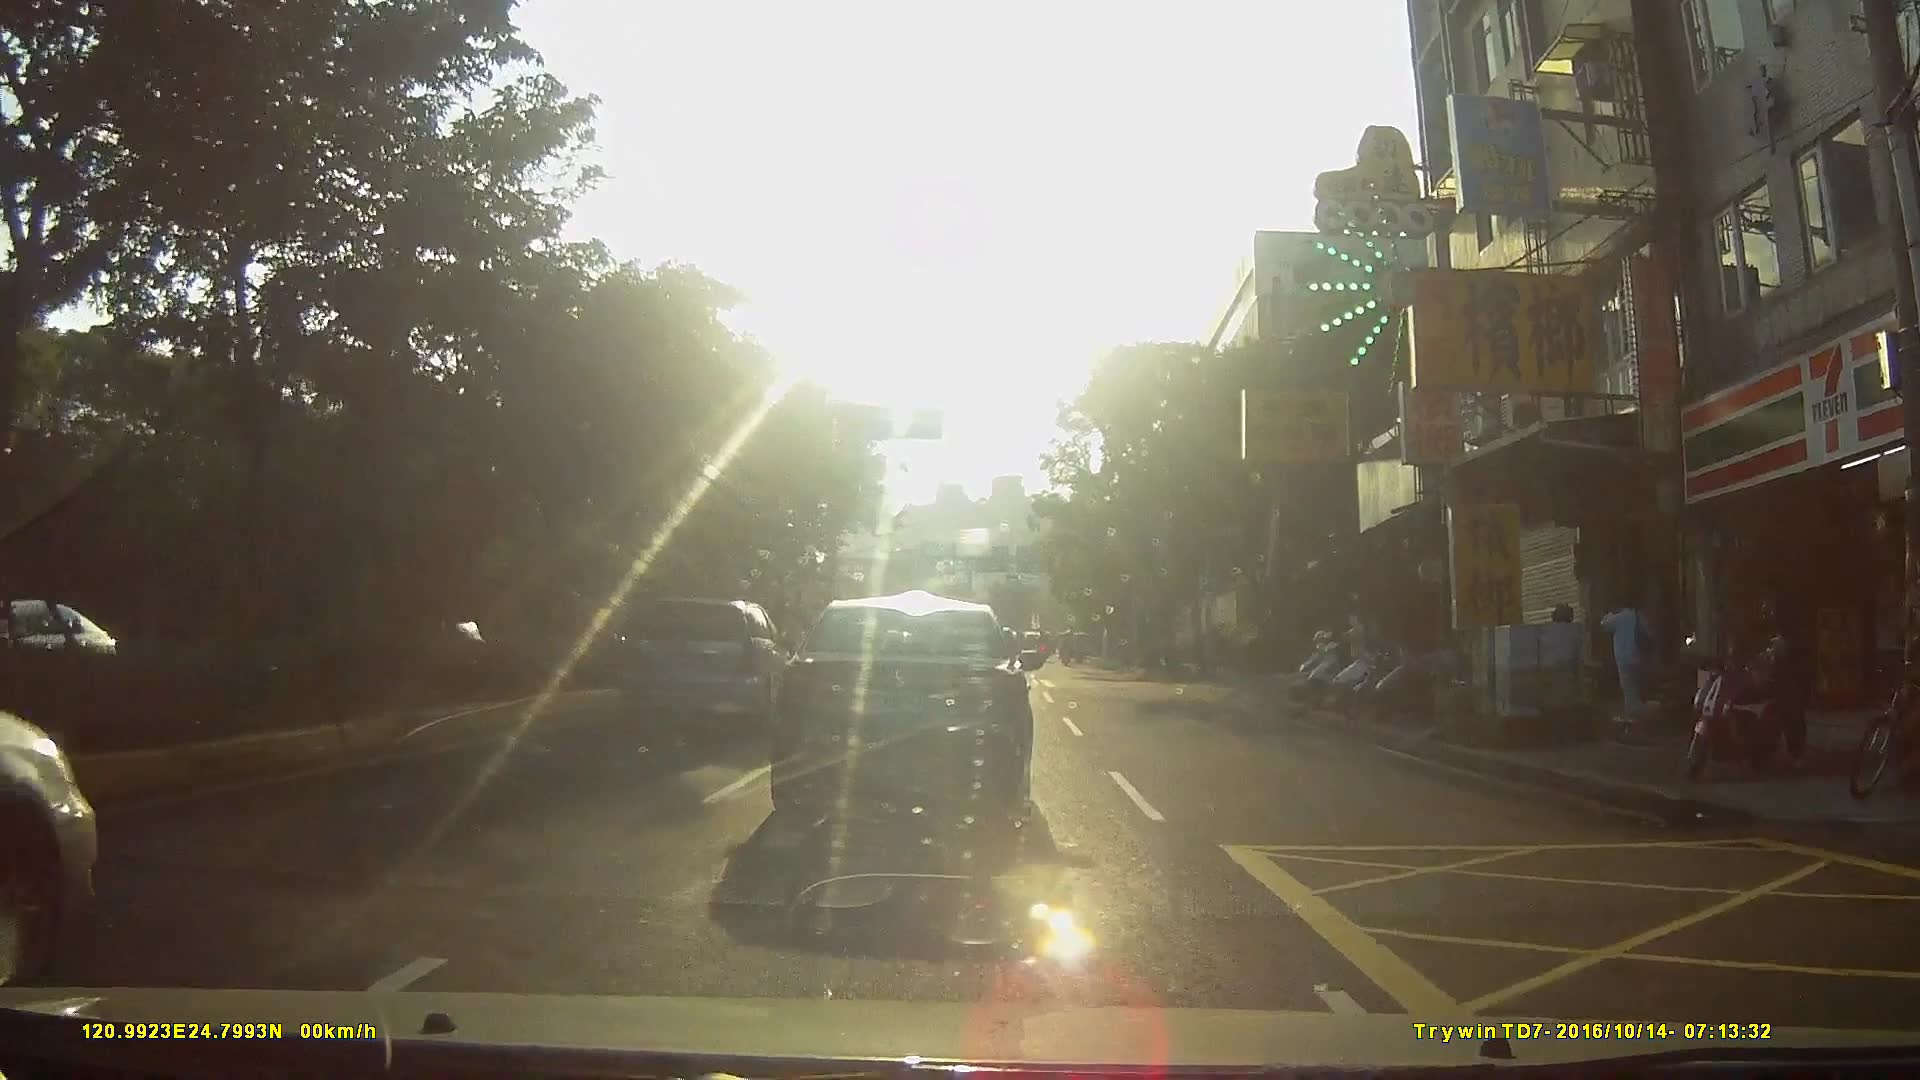pedestrian: (1760, 614, 1817, 777), (1600, 589, 1666, 727)
vehicle: (776, 587, 1062, 836), (1, 648, 119, 994), (622, 597, 798, 729), (1, 598, 125, 700)
